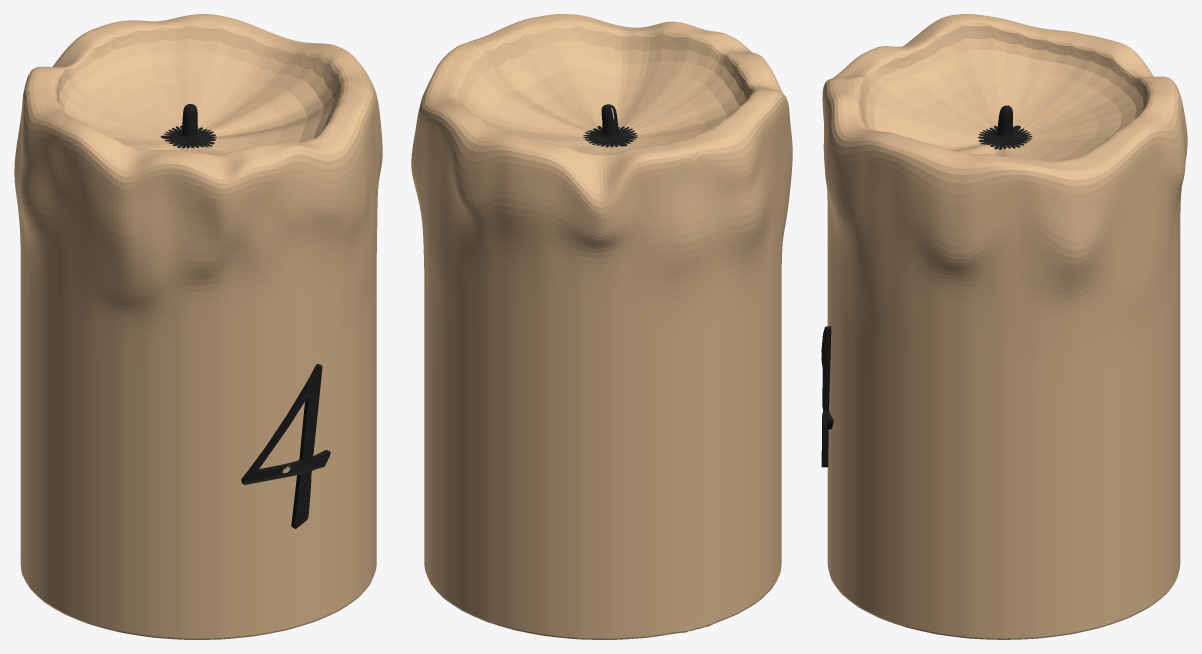
File: Candle-4.fbx
3 renders of one model, left to right at view 1: azimuth 30°, elevation 25°; view 2: azimuth 150°, elevation 25°; view 3: azimuth 270°, elevation 25°, orthographic.
Visible parts, largest first — view 1: Candle, Text; view 2: Candle; view 3: Candle, Text.
Part boxes in pixels (<box>): Candle: <box>14,14,382,639</box>; Text: <box>241,364,330,528</box>; Candle: <box>411,14,792,639</box>; Candle: <box>822,14,1187,639</box>; Text: <box>821,326,833,467</box>.
Bounding box in the file's own units: 41.75 × 60.84 × 41.42.
